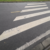zebra: (1, 2, 50, 40)
